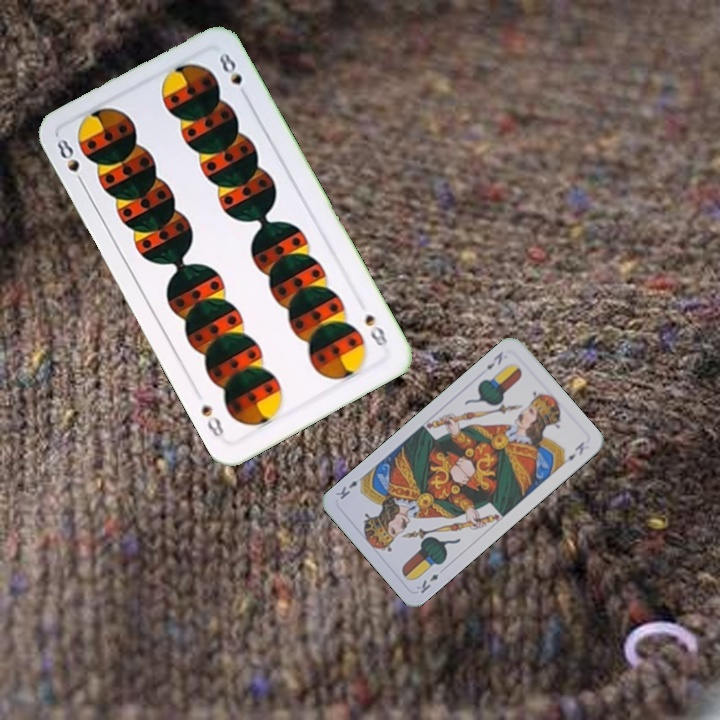EK: (412, 569, 441, 596), (482, 347, 506, 372)
S8: (52, 134, 88, 190), (360, 310, 392, 352)
